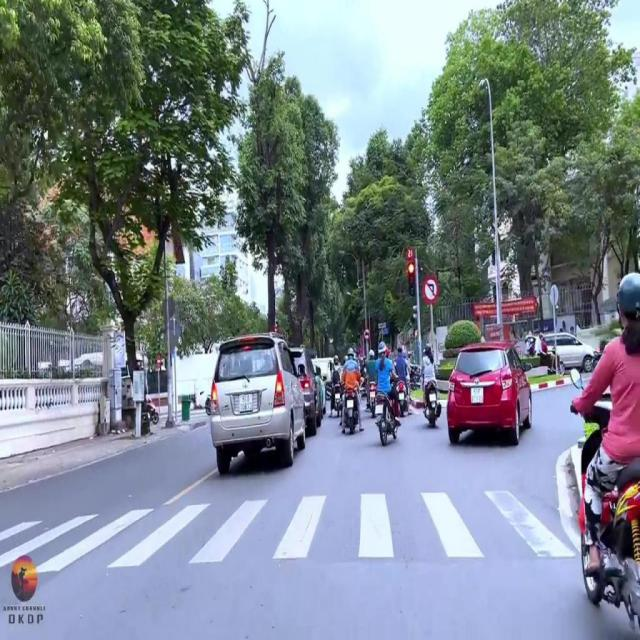cam_o_to_tai: (364, 329, 369, 340)
cam_re_trai: (422, 274, 438, 303)
